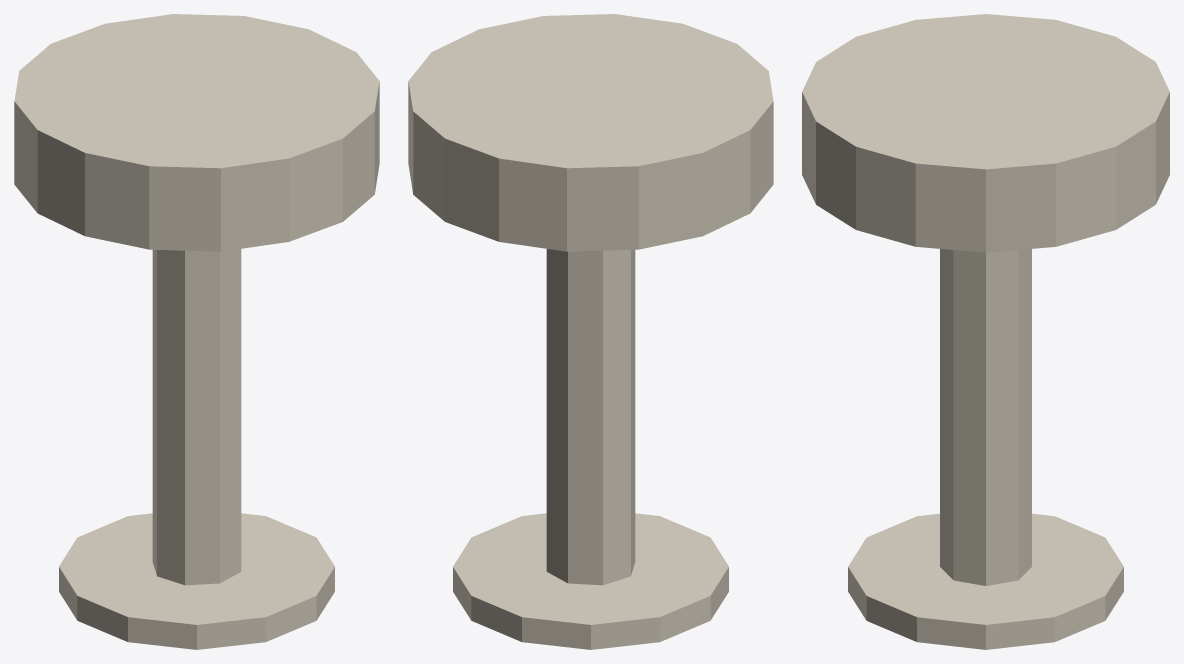
The model's file is wash_basin.glb.
The picture shows the model from 3 angles, left to right: view 1: azimuth 30°, elevation 25°; view 2: azimuth 150°, elevation 25°; view 3: azimuth 270°, elevation 25°; orthographic projection.
Visible parts, largest first — view 1: wash_basin; view 2: wash_basin; view 3: wash_basin.
Boxes of the visible parts, x1=… form: wash_basin: x1=14, y1=14, x2=379, y2=649; wash_basin: x1=408, y1=14, x2=773, y2=649; wash_basin: x1=802, y1=14, x2=1169, y2=649.
Bounding box in the file's own units: 0.4 × 0.6 × 0.4.
